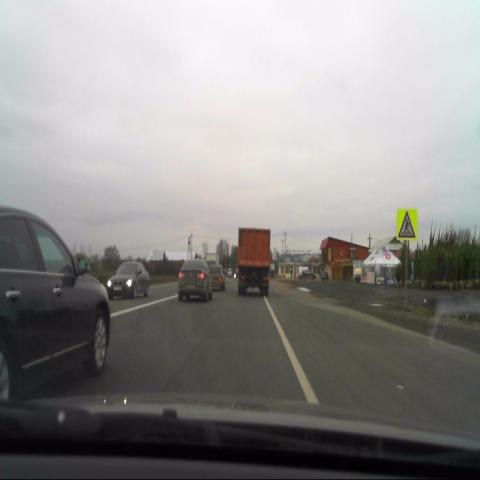1_22: (397, 209, 417, 242)
